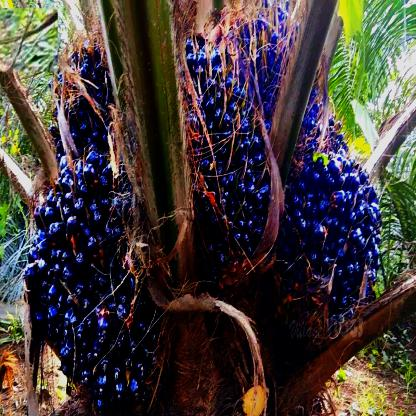palm-oil: (20, 157, 174, 408), (179, 37, 270, 265), (276, 147, 382, 337), (249, 4, 353, 146), (47, 50, 121, 156)
